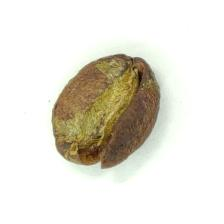NG: (58, 61, 131, 161)
